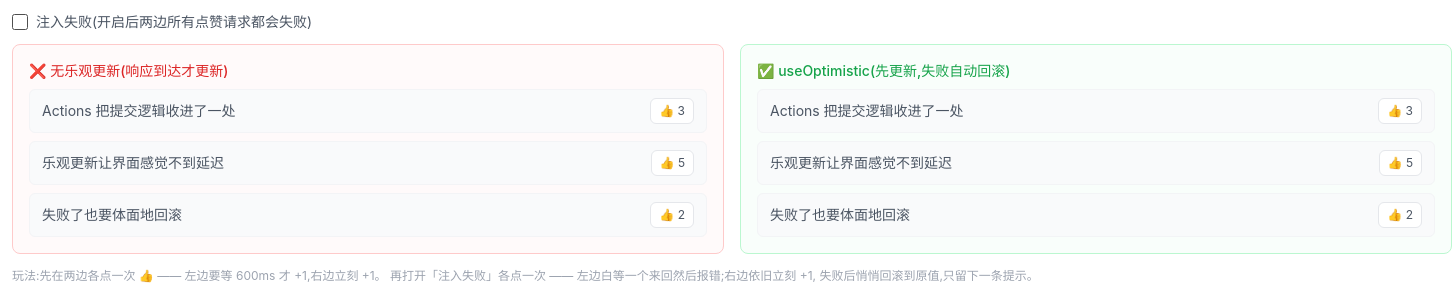
React 19 Actions · 专题页 › useOptimistic:点击点赞后界面立即 +1,请求成功后保持
Step 1. Click the button named "点赞:Actions 把提交逻辑" → (1400, 111), box top-left (1378, 98), bottom-right (1422, 124)
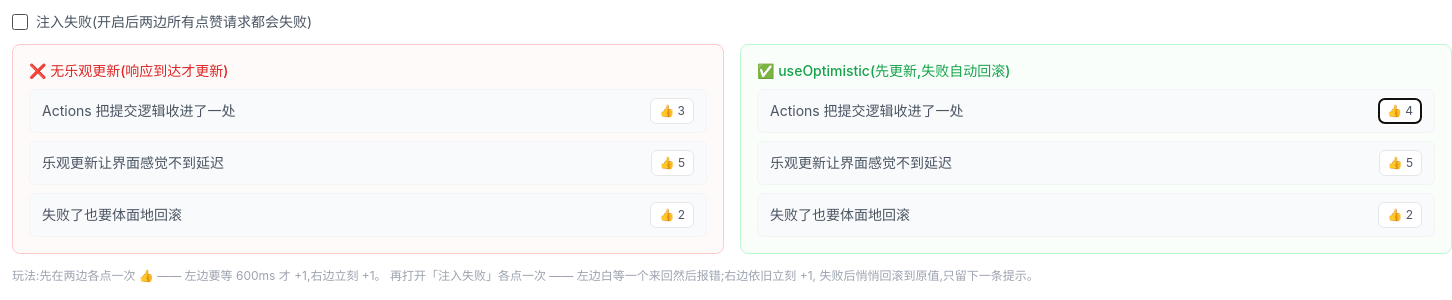
expect the button named "点赞:Actions 把提交逻辑" shows "3": met, box top-left (650, 98), bottom-right (694, 124)
expect the button named "点赞:Actions 把提交逻辑" shows "4": met, box top-left (1378, 98), bottom-right (1422, 124)
